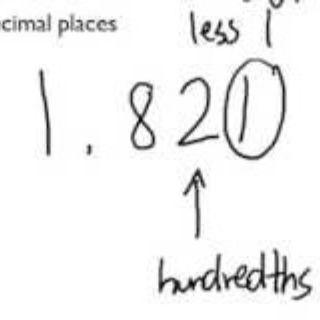.: (84, 141, 95, 158)
1: (34, 65, 58, 161), (237, 74, 254, 145)
2: (176, 73, 221, 151)
8: (126, 76, 161, 154)
